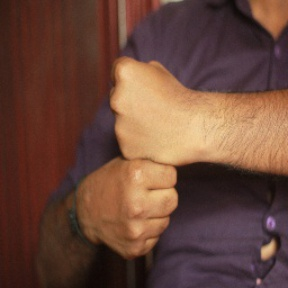G: (89, 52, 195, 260)
